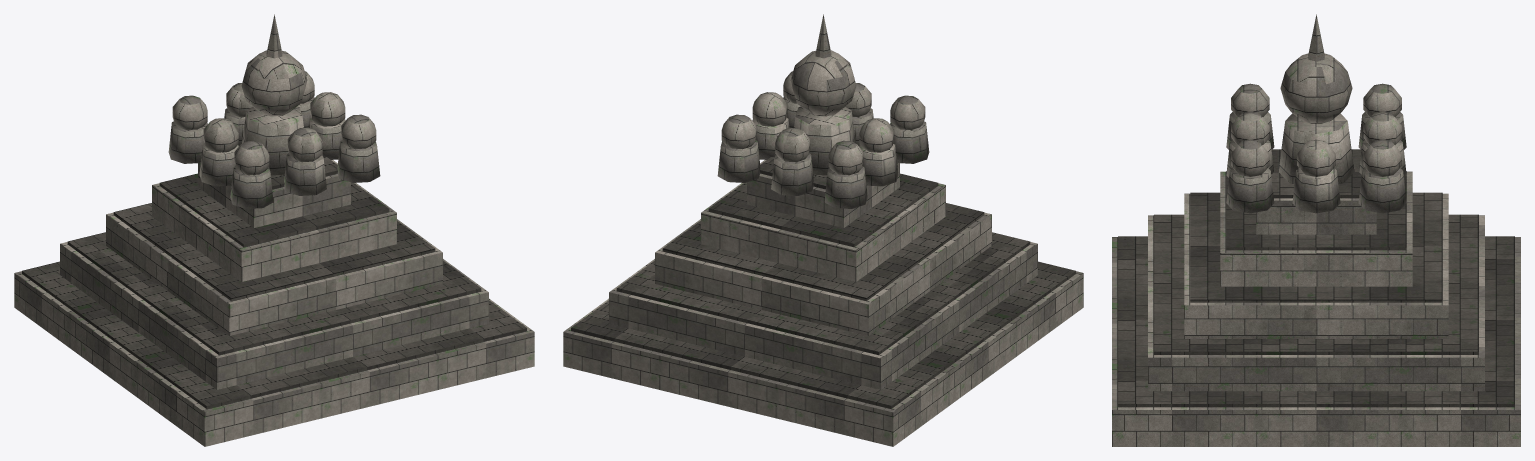
Rendered from candi.glb.
The picture shows the model from 3 angles, left to right: view 1: azimuth 30°, elevation 25°; view 2: azimuth 150°, elevation 25°; view 3: azimuth 270°, elevation 25°; orthographic projection. The views are drawn at different scales.
Visible parts, largest first — view 1: candi; view 2: candi; view 3: candi.
Part boxes in pixels (bbox=[...]): candi: bbox=[14, 14, 534, 446]; candi: bbox=[563, 14, 1083, 446]; candi: bbox=[1112, 14, 1520, 446].
Bounding box in the file's own units: 3.4 × 3.18 × 3.4.
Materials: 2 (2 with a texture image).
